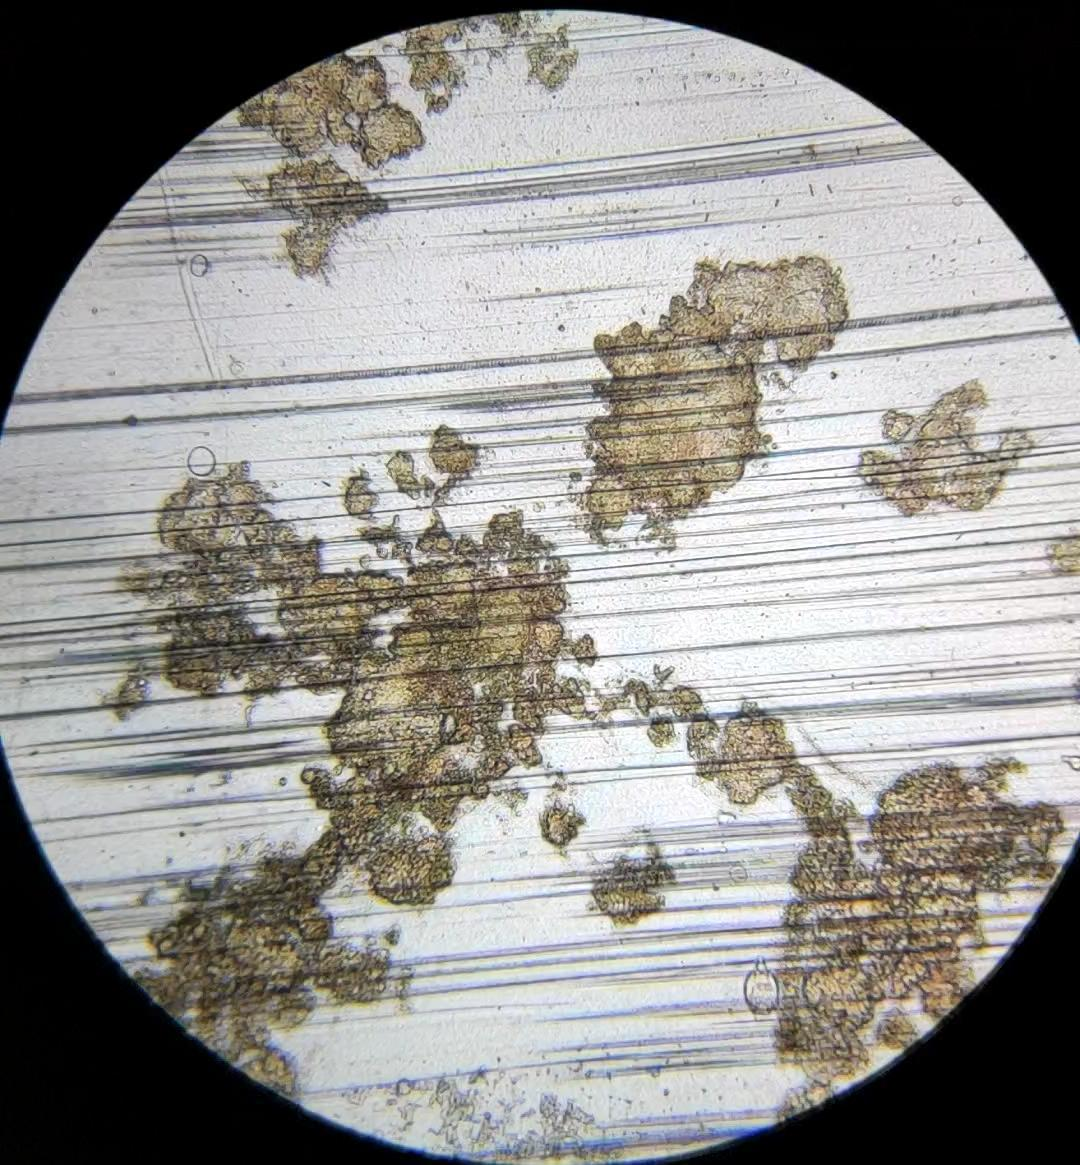Do: (744, 956, 780, 1016)
